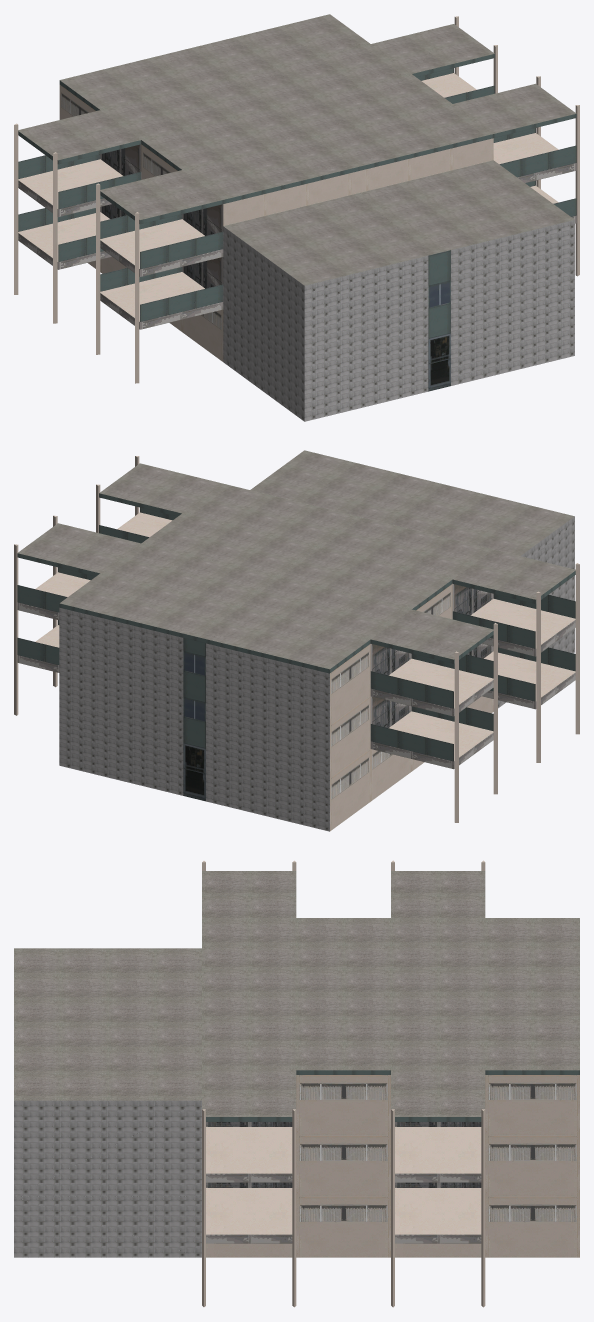
Rendered from vagbond01_lvs.obj.
3 renders of one model, top to bottom at view 1: azimuth 30°, elevation 25°; view 2: azimuth 150°, elevation 25°; view 3: azimuth 270°, elevation 25°, orthographic. The views are drawn at different scales.
Visible parts, largest first — view 1: vagbond01_lvs; view 2: vagbond01_lvs; view 3: vagbond01_lvs.
Part boxes in pixels (x1,y1,x2,y2): vagbond01_lvs: [14, 14, 579, 421]; vagbond01_lvs: [14, 450, 579, 831]; vagbond01_lvs: [14, 860, 579, 1307].
Bounding box in the file's own units: 31.11 × 11.36 × 29.67.
6 materials, 6 textured.
